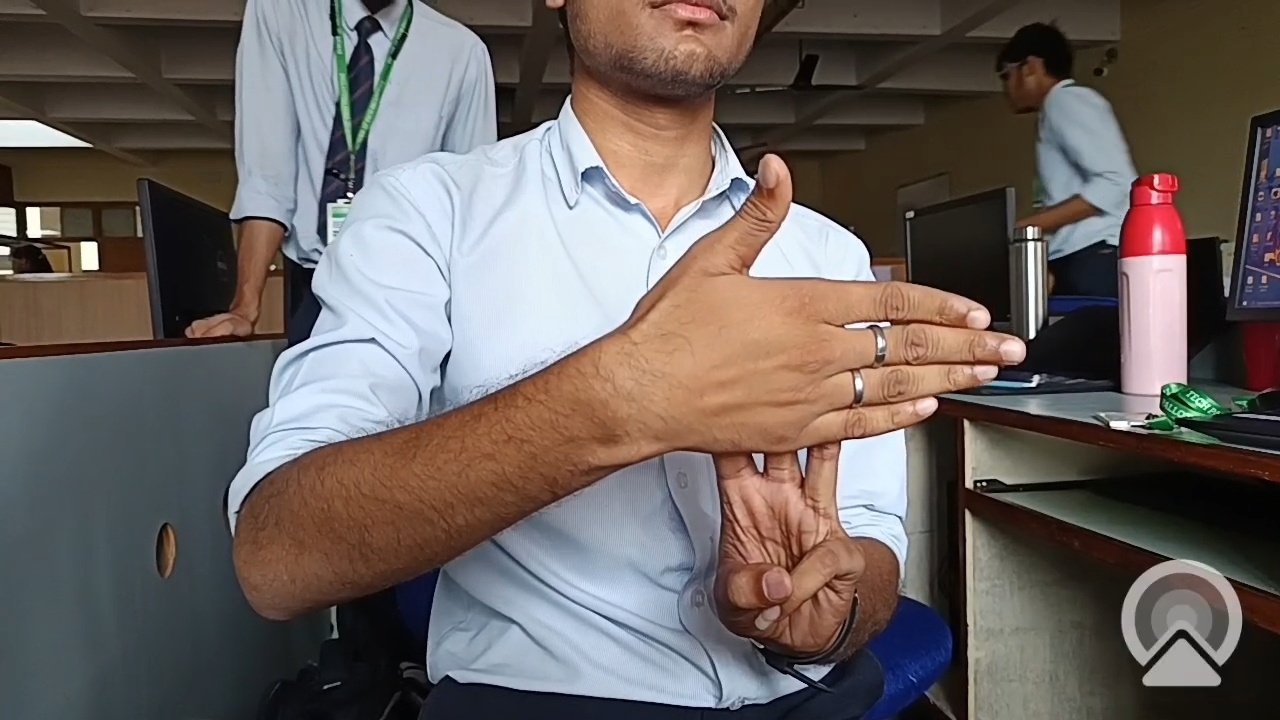M: (577, 149, 1027, 694)
